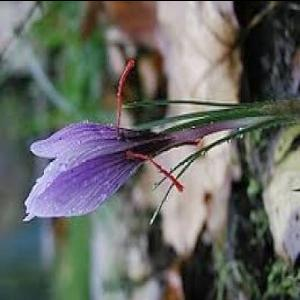Saffron: (20, 122, 176, 219)
